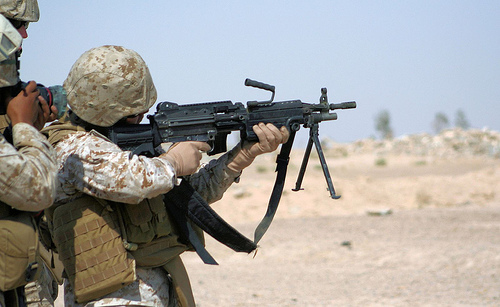rifle: (194, 84, 361, 130)
rifle in hand: (162, 83, 411, 208)
